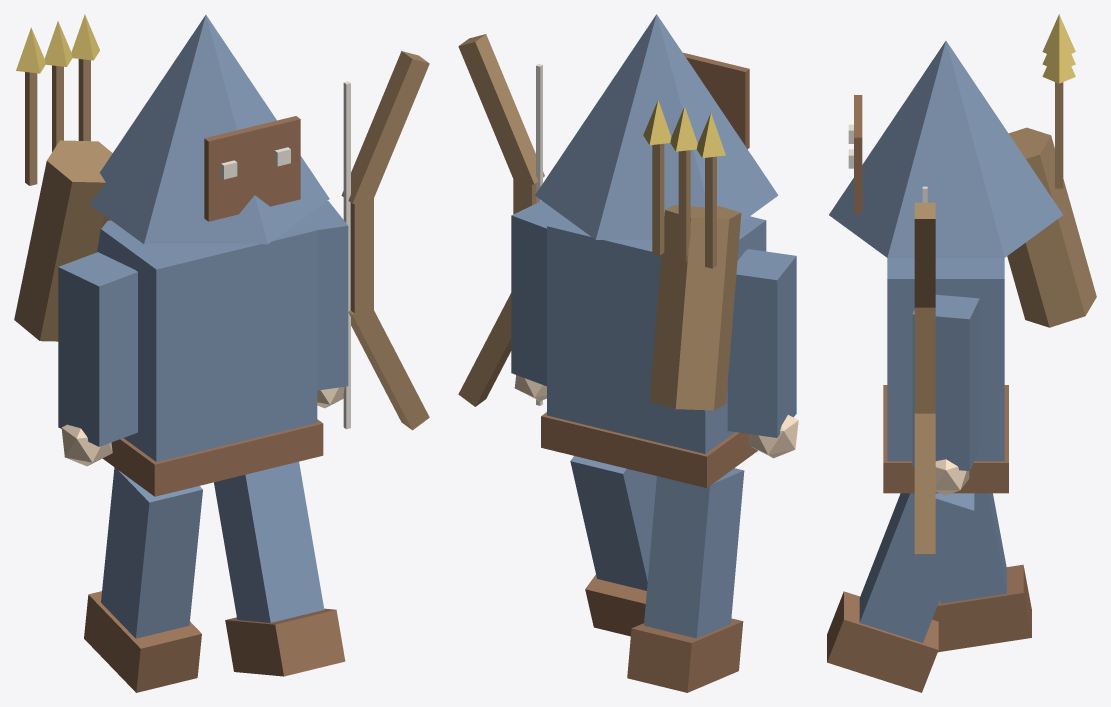
Rendered from npcpose_archer_walk_05.glb.
3 renders of one model, left to right at view 1: azimuth 30°, elevation 25°; view 2: azimuth 150°, elevation 25°; view 3: azimuth 270°, elevation 25°, orthographic. The views are drawn at different scales.
Visible parts, largest first — view 1: npcpose; view 2: npcpose; view 3: npcpose.
Boxes of the visible parts, x1,y1,x2,y2 form: npcpose: [14, 14, 429, 692]; npcpose: [458, 14, 798, 692]; npcpose: [827, 14, 1096, 692].
Bounding box in the file's own units: 0.9089 × 1.63 × 0.6438.
